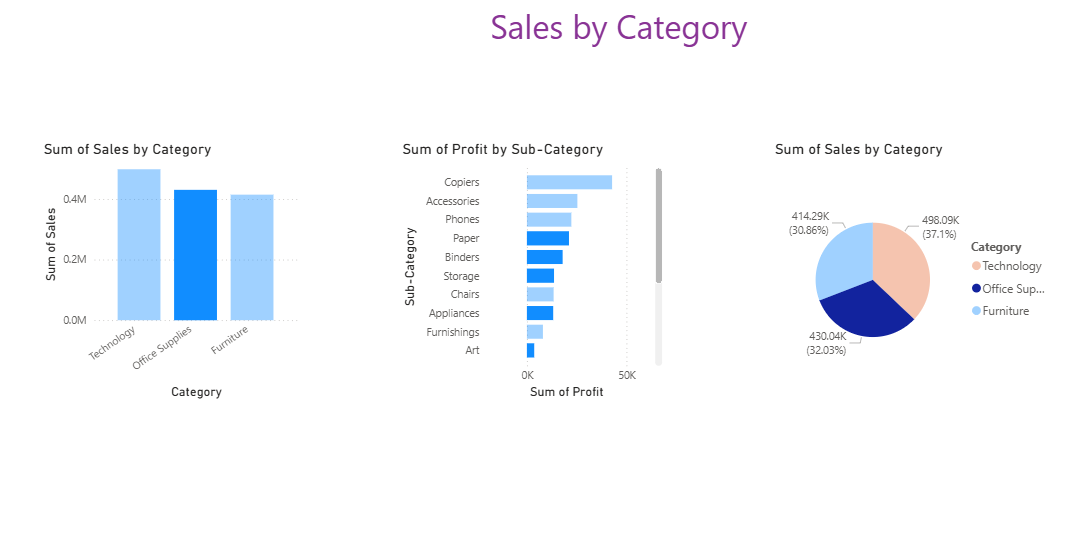

Layout of this report page (visuals, bound fields, positions):
{"tool":"powerbi","page":{"name":"Page 3","canvas":[1280,720],"ordinal":2},"visuals":[{"type":"textbox","box":[436.2,27.1,565.9,67],"z":0},{"type":"columnChart","fields":{"Category":["retail_sales_data.Category"],"Y":["Sum(retail_sales_data.Sales)"]},"box":[58.4,186.7,300.8,300.8],"z":1},{"type":"barChart","fields":{"Category":["retail_sales_data.Sub-Category"],"Y":["Sum(retail_sales_data.Profit)"]},"box":[467.5,186.7,306.5,300.8],"z":2},{"type":"pieChart","fields":{"Category":["retail_sales_data.Category"],"Y":["Sum(retail_sales_data.Sales)"]},"box":[892.3,186.7,330.7,300.8],"z":3}]}

Visuals, with their boxes on the page's 1280x720 design canvas (x1, y1, x2, y2). These are canvas units, not pixel positions in the 1086x555 screenshot, which may show the page scaled, cropped or inside an application window:
textbox: [436, 27, 1002, 94]
columnChart - retail_sales_data.Category x Sum(retail_sales_data.Sales): [58, 187, 359, 488]
barChart - retail_sales_data.Sub-Category x Sum(retail_sales_data.Profit): [468, 187, 774, 488]
pieChart - retail_sales_data.Category x Sum(retail_sales_data.Sales): [892, 187, 1223, 488]
